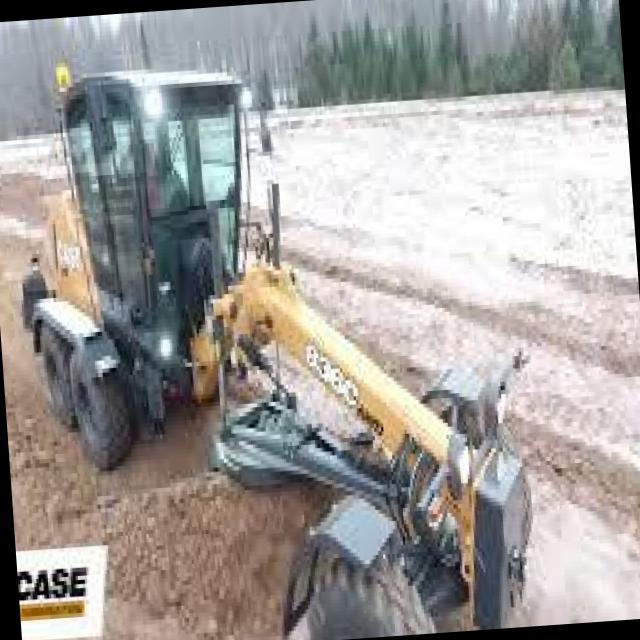Grader: (0, 23, 551, 640)
